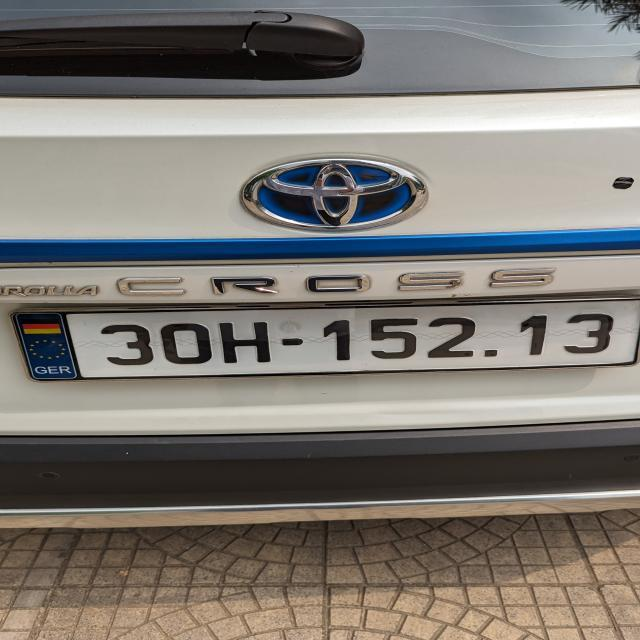license: (10, 295, 638, 381)
